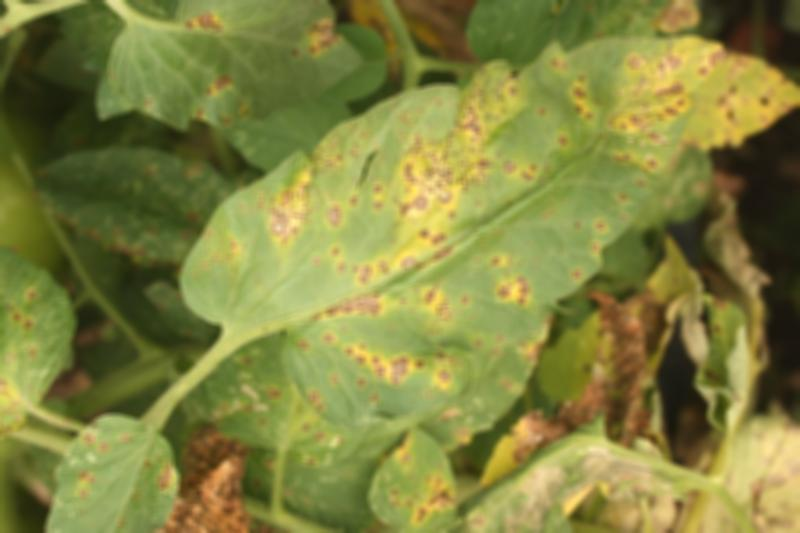Tomato Septoria leaf spot: (182, 41, 722, 423)
